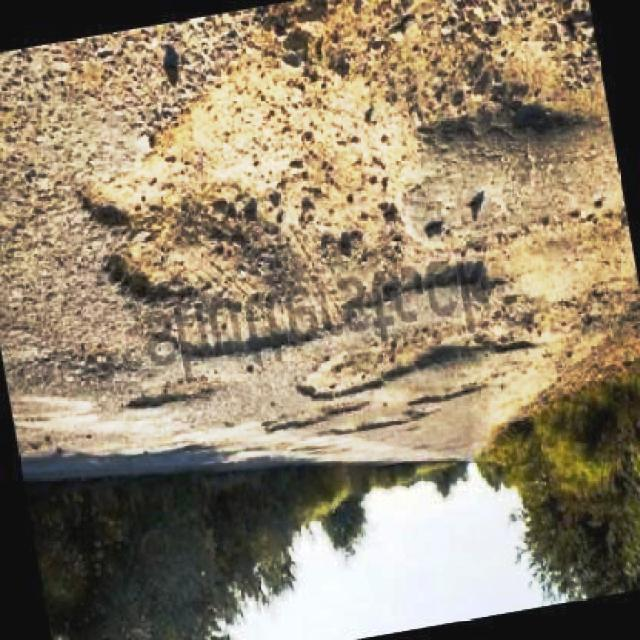pothole: (77, 0, 625, 311), (146, 272, 542, 398), (129, 377, 225, 411)
